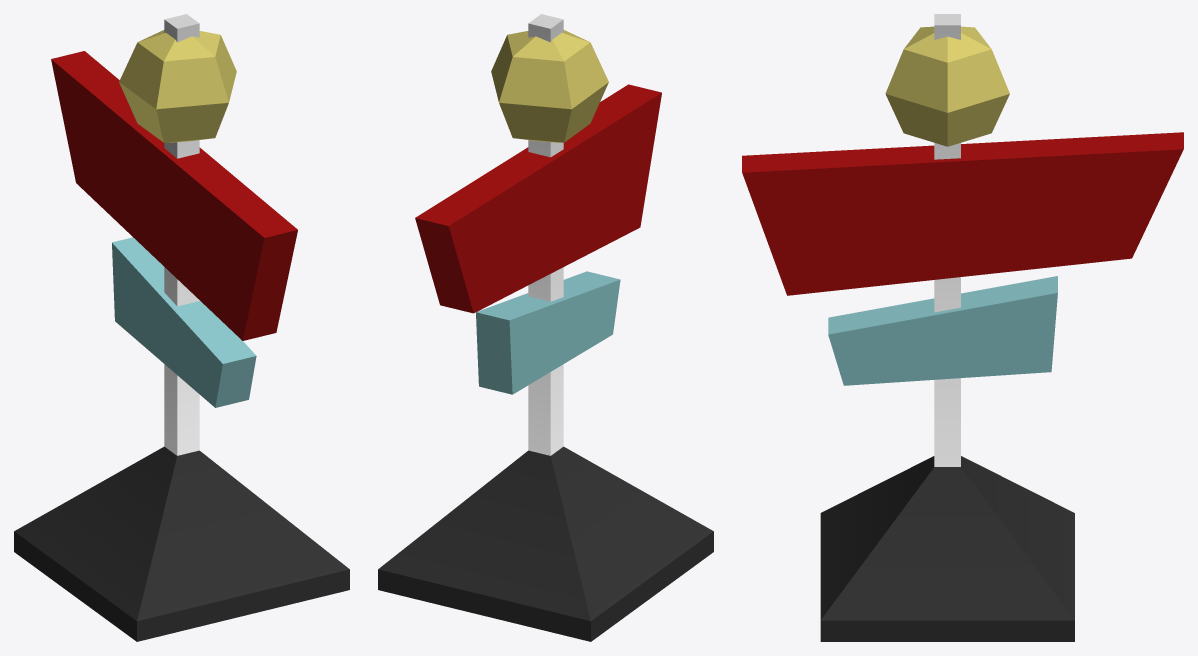
The model's file is Lobby_Sculp1.fbx.
3 renders of one model, left to right at view 1: azimuth 30°, elevation 25°; view 2: azimuth 150°, elevation 25°; view 3: azimuth 270°, elevation 25°, orthographic. The views are drawn at different scales.
Parts seen in each view (by area): view 1: pSphere2; view 2: pSphere2; view 3: pSphere2.
Boxes of the visible parts, box(x1,y1,x2,y2) form: pSphere2: box(14, 14, 349, 641); pSphere2: box(378, 14, 713, 641); pSphere2: box(742, 14, 1183, 641).
Size of the model in its own units: 2.37 by 5.84 by 4.11.
